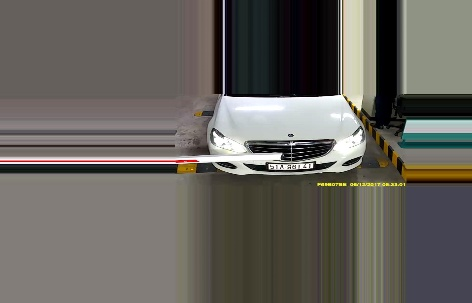plate: (267, 160, 315, 172)
